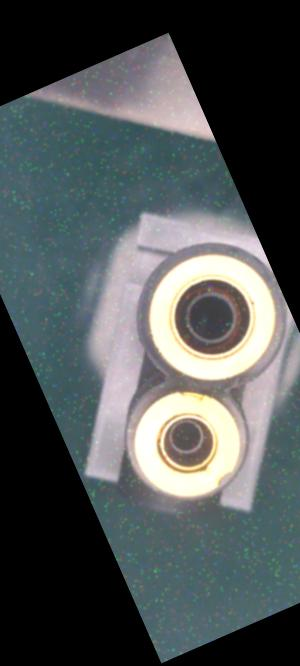bump: (205, 463, 238, 491)
